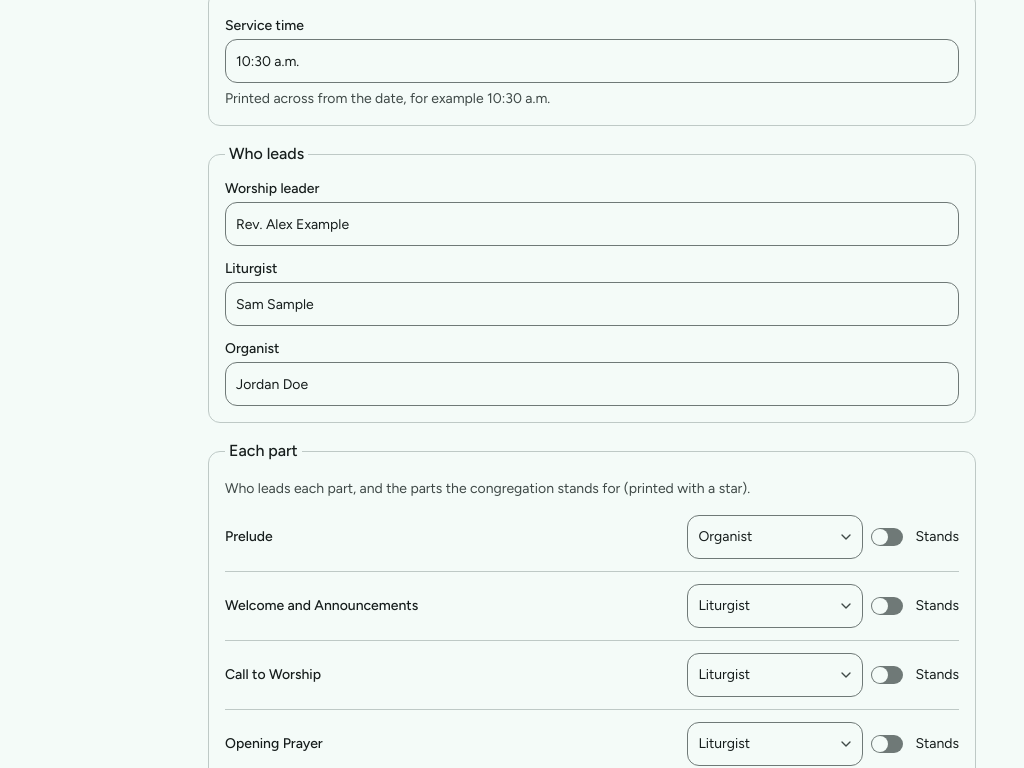
Test: Bulletin settings (printed bulletin PR 2a) › keeps what was saved when a read that started before the save answers after it
(page scrolled)
Replace the text in the field labelled "Organist" with "Pat New" at (592, 384), box left=225, top=362, right=959, bottom=406
(page scrolled)
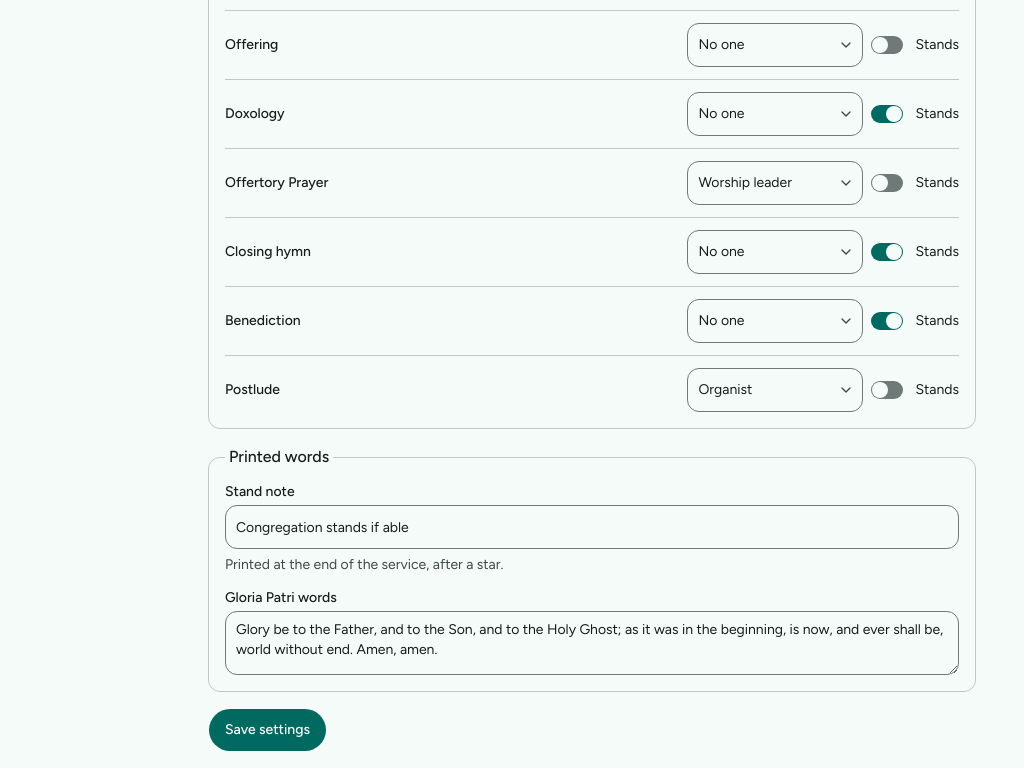
Click the button "Save settings" at (268, 730), box left=208, top=708, right=327, bottom=752
(page scrolled)
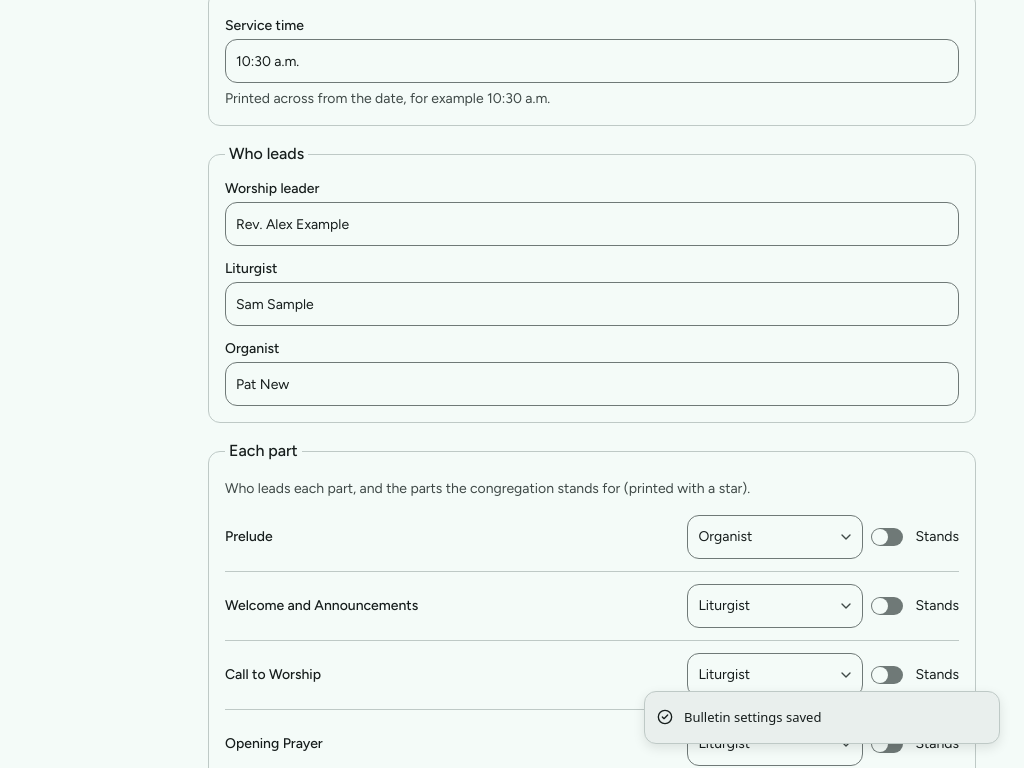
Check: the text "Bulletin settings saved" is shown, box left=684, top=708, right=821, bottom=727
